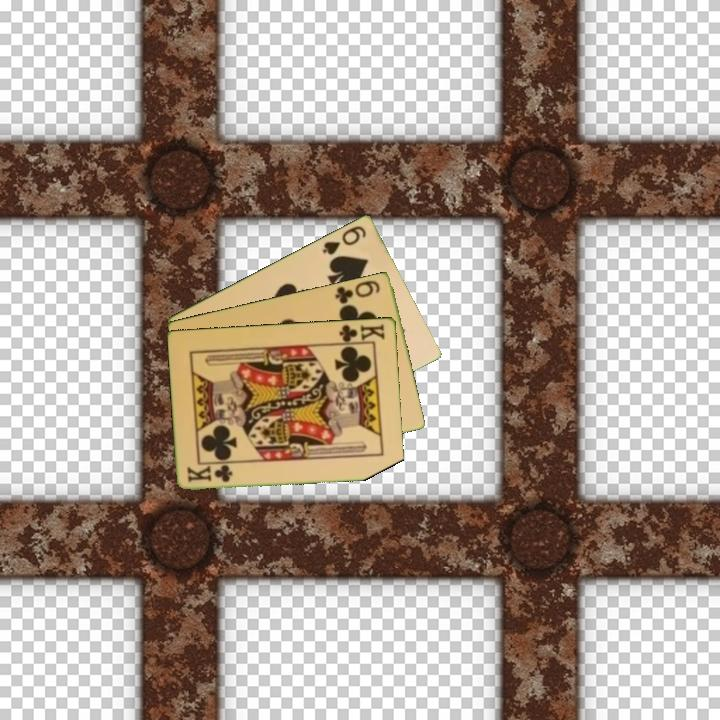6c: (332, 276, 383, 306)
6s: (319, 222, 369, 257)
Kc: (334, 320, 387, 346), (184, 462, 236, 485)
